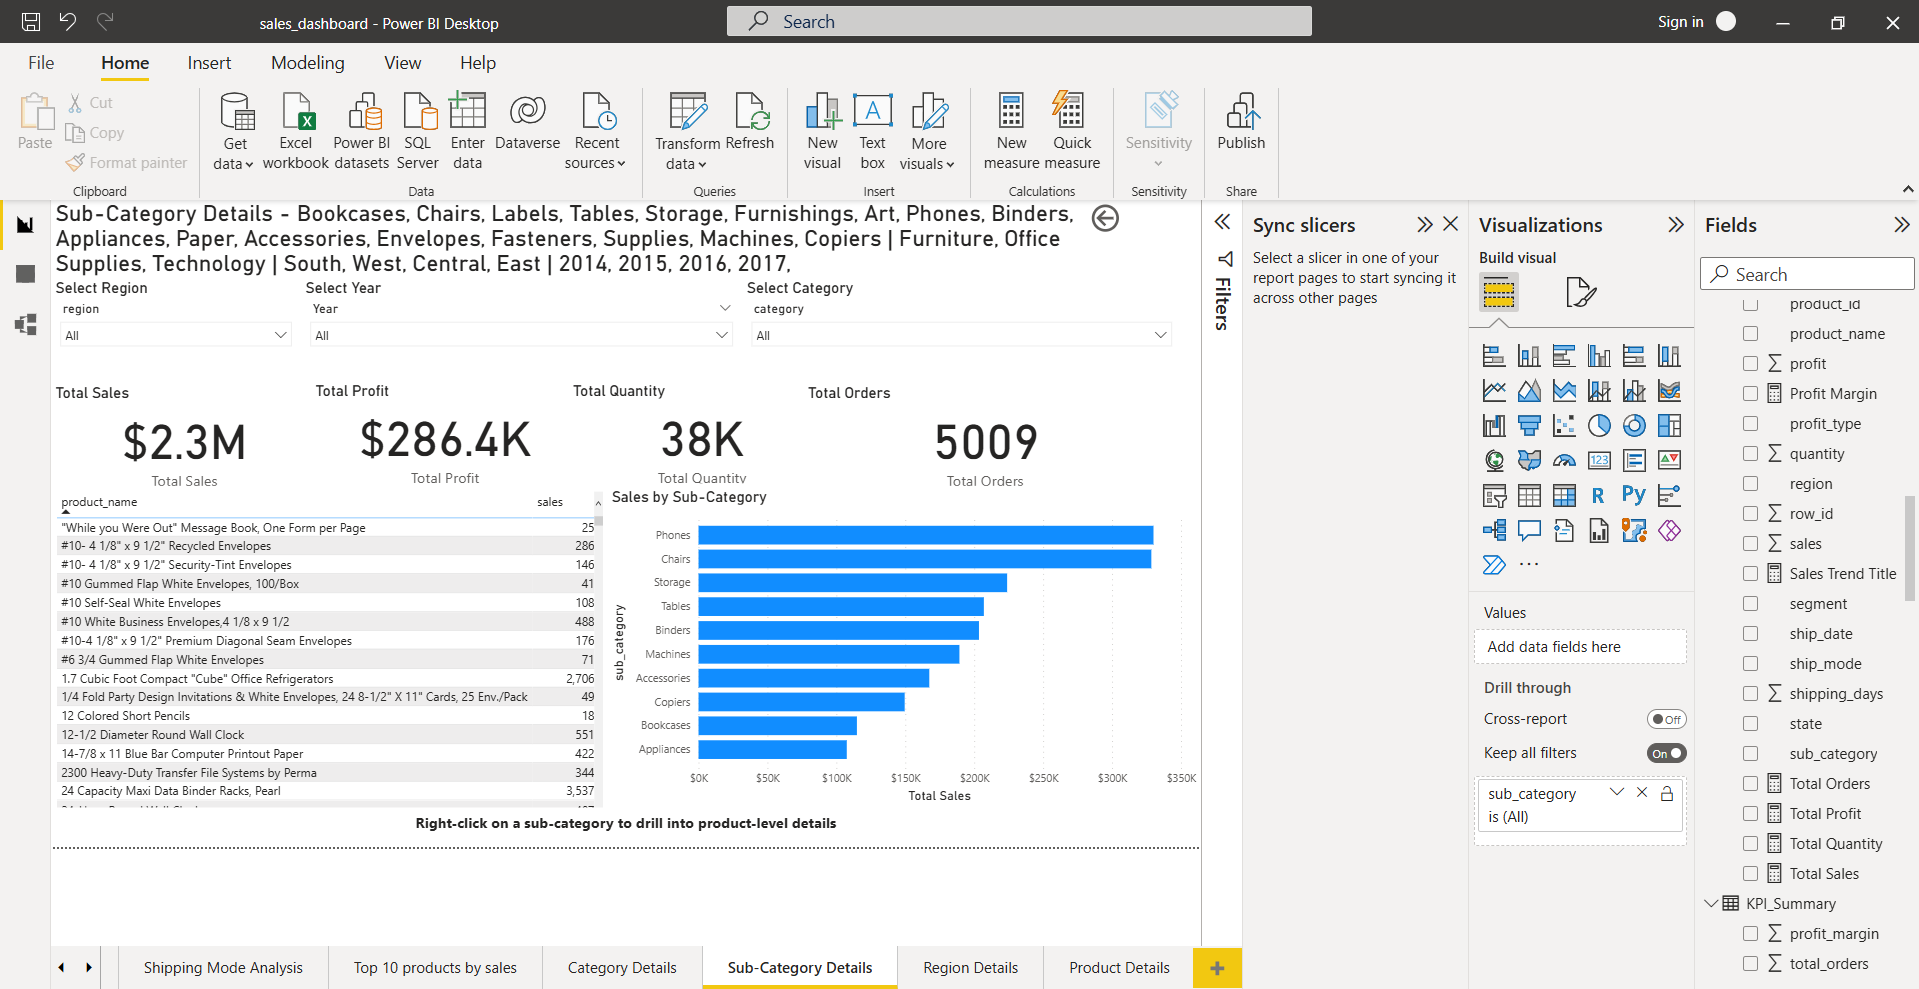

The page's visual inventory and layout, read from the dashboard file:
{"tool":"powerbi","page":{"name":"Sub-Category Details","canvas":[1280,720],"ordinal":7},"visuals":[{"type":"card","title":"Total Sales","fields":{"Values":["Fact_sales.Total Sales"]},"box":[0,204.5,297.7,118.3],"z":0},{"type":"card","title":"Total Profit","fields":{"Values":["Fact_sales.Total Profit"]},"box":[289.4,201.7,299.1,118.3],"z":1000},{"type":"card","title":"Total Quantity","fields":{"Values":["Fact_sales.Total Quantity"]},"box":[576,201.7,297.7,118.3],"z":2000},{"type":"card","title":"Total Orders","fields":{"Values":["Fact_sales.Total Orders"]},"box":[837.6,204.5,404.9,118.3],"z":3000},{"type":"barChart","title":"Sales by Sub-Category","fields":{"Y":["Fact_sales.Total Sales"],"Category":["Fact_sales.sub_category"]},"box":[619.1,320,660.9,356.2],"z":4000},{"type":"tableEx","fields":{"Values":["Fact_sales.product_name","Sum(Fact_sales.sales)","Sum(Fact_sales.profit)","Sum(Fact_sales.quantity)"]},"box":[0,320,619.1,400.7],"z":5000},{"type":"actionButton","box":[1152.7,0,100.2,40.3],"z":6000},{"type":"card","fields":{"Values":["Category_Performance.SubCategory Title"]},"box":[0,0,1152.7,88],"z":7000},{"type":"textbox","box":[0,676,1279.9,44],"z":8000},{"type":"slicer","title":"Select Category","fields":{"Values":["Fact_sales.category"]},"box":[769.4,87.7,488.3,108.5],"z":8001},{"type":"slicer","title":"Select Region","fields":{"Values":["Fact_sales.region"]},"box":[0,87.7,278.3,108.5],"z":8002},{"type":"slicer","title":"Select Year","fields":{"Values":["Date_Dim.Year"]},"box":[278.3,87.7,491.1,108.5],"z":8003}]}

Visuals, with their boxes on the page's 1280x720 design canvas (x1, y1, x2, y2). These are canvas units, not pixel positions in the 1919x989 screenshot, which may show the page scaled, cropped or inside an application window:
"Total Sales" card: bbox=[0, 204, 298, 323]
"Total Profit" card: bbox=[289, 202, 588, 320]
"Total Quantity" card: bbox=[576, 202, 874, 320]
"Total Orders" card: bbox=[838, 204, 1242, 323]
"Sales by Sub-Category" barChart: bbox=[619, 320, 1280, 676]
tableEx - Fact_sales.product_name x Sum(Fact_sales.sales): bbox=[0, 320, 619, 721]
actionButton: bbox=[1153, 0, 1253, 40]
card - Category_Performance.SubCategory Title: bbox=[0, 0, 1153, 88]
textbox: bbox=[0, 676, 1280, 720]
"Select Category" slicer: bbox=[769, 88, 1258, 196]
"Select Region" slicer: bbox=[0, 88, 278, 196]
"Select Year" slicer: bbox=[278, 88, 769, 196]
